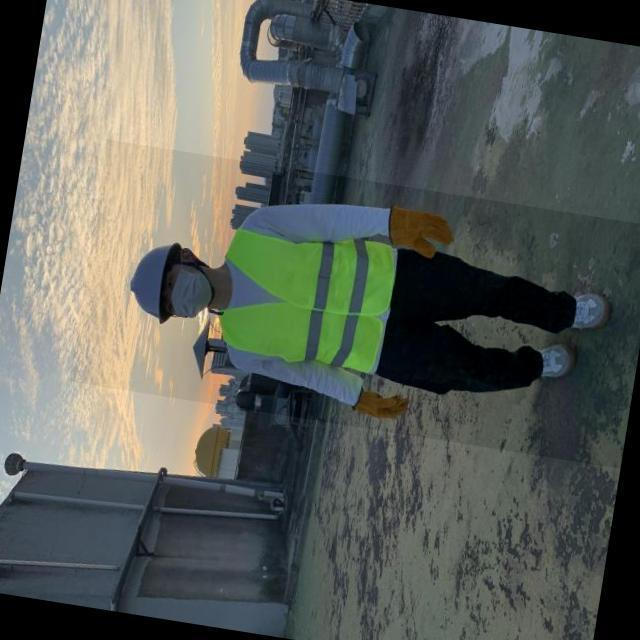Gloves: (383, 197, 461, 273), (349, 375, 414, 426)
Helmet: (115, 233, 188, 333)
Person: (98, 190, 629, 448)
Safety Boot: (560, 283, 616, 341), (525, 334, 580, 392)
Safety Vest: (203, 219, 402, 380)
